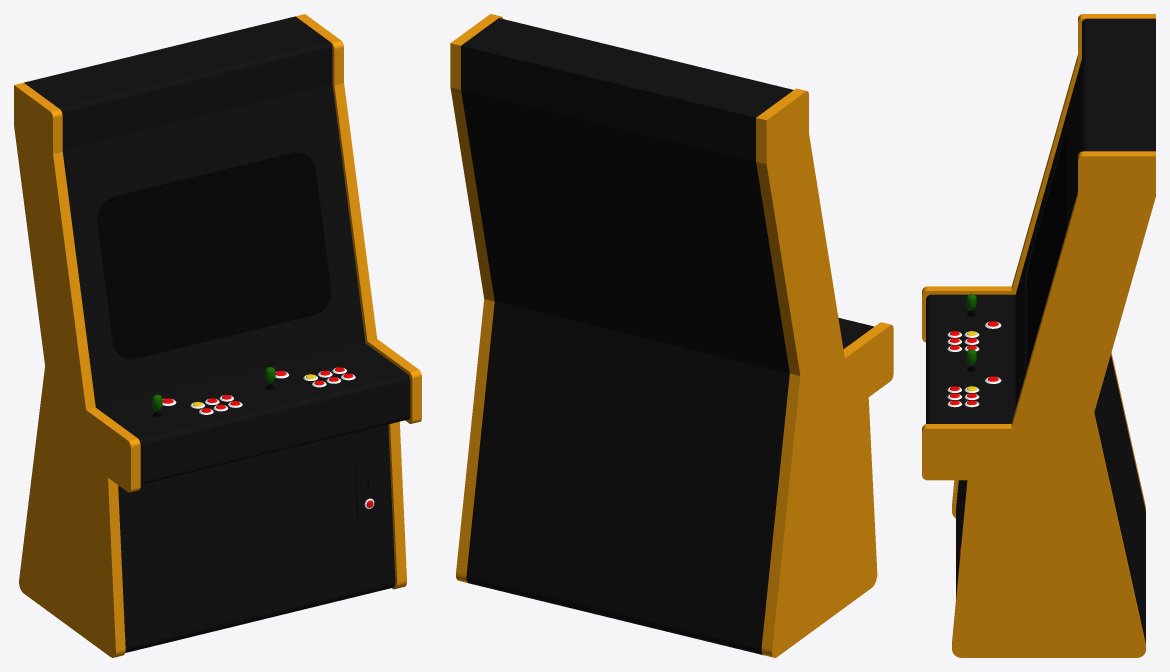
Rendered from 오락기.FBX.
The picture shows the model from 3 angles, left to right: view 1: azimuth 30°, elevation 25°; view 2: azimuth 150°, elevation 25°; view 3: azimuth 270°, elevation 25°; orthographic projection. The views are drawn at different scales.
Visible parts, largest first — view 1: Line003, Line001, Line002; view 2: Line003, Line001, Line002; view 3: Line002, Line003, Line001.
Part boxes in pixels (x1,y1,x2,y2): Line003: (24, 16, 410, 652); Line001: (14, 82, 140, 657); Line002: (296, 14, 421, 589); Line003: (461, 18, 874, 655); Line001: (756, 88, 893, 657); Line002: (450, 14, 502, 582); Line002: (922, 151, 1155, 657); Line003: (926, 18, 1155, 643); Line001: (922, 14, 1155, 518).
Size of what is drawn, in the model's own units: 910 by 1497 by 632.
